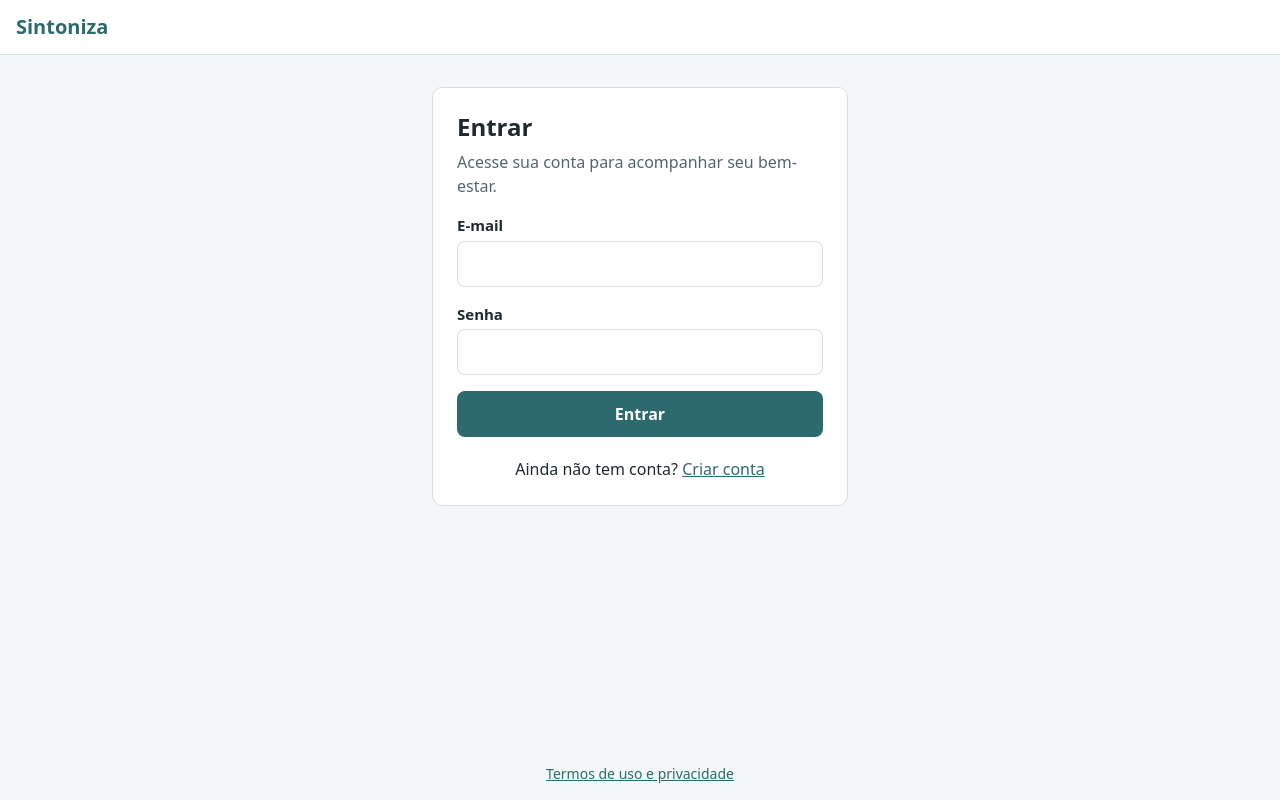
Scenario: authentication flow › tells the user to wait after too many failed attempts
In the field labelled "E-mail": (640, 264) 457,240 -> 823,286, type "ana@example.com"
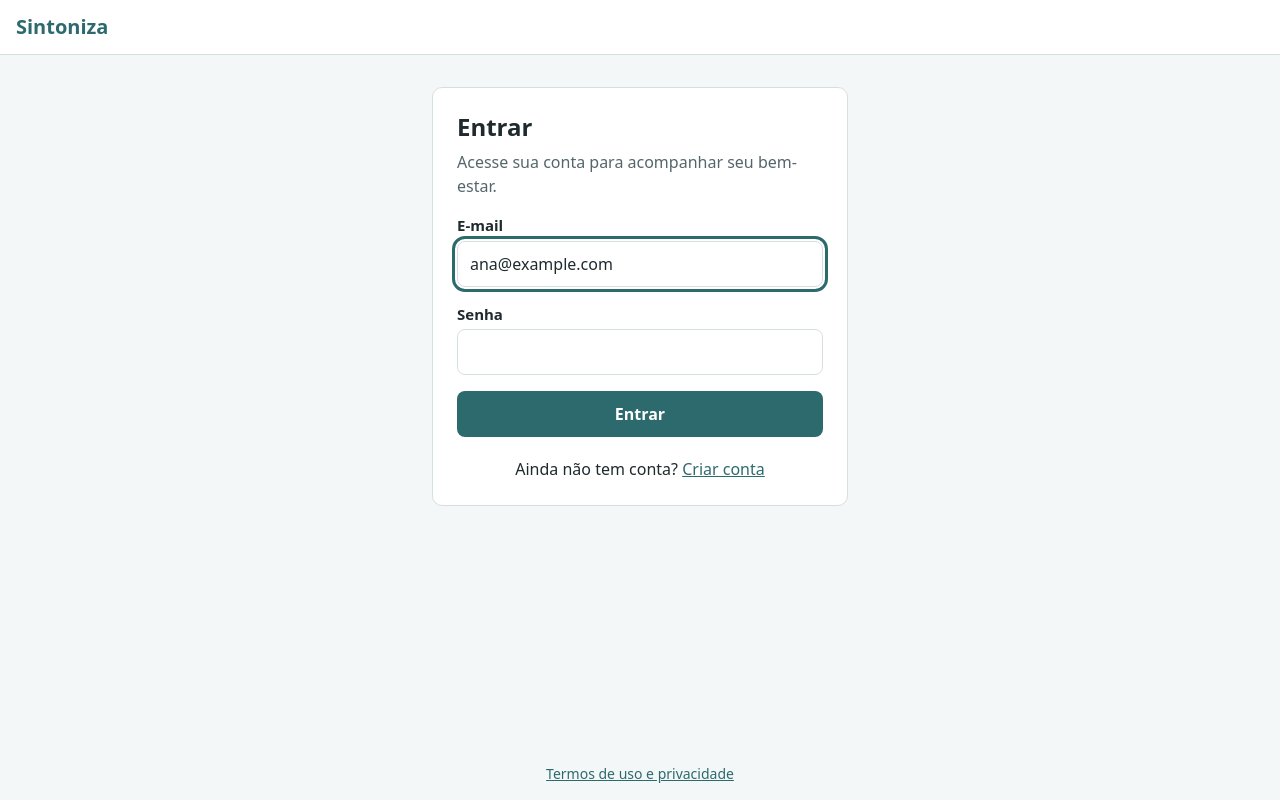
In the password field labelled "Senha": (640, 352) 457,329 -> 823,375, type "senha-errada"
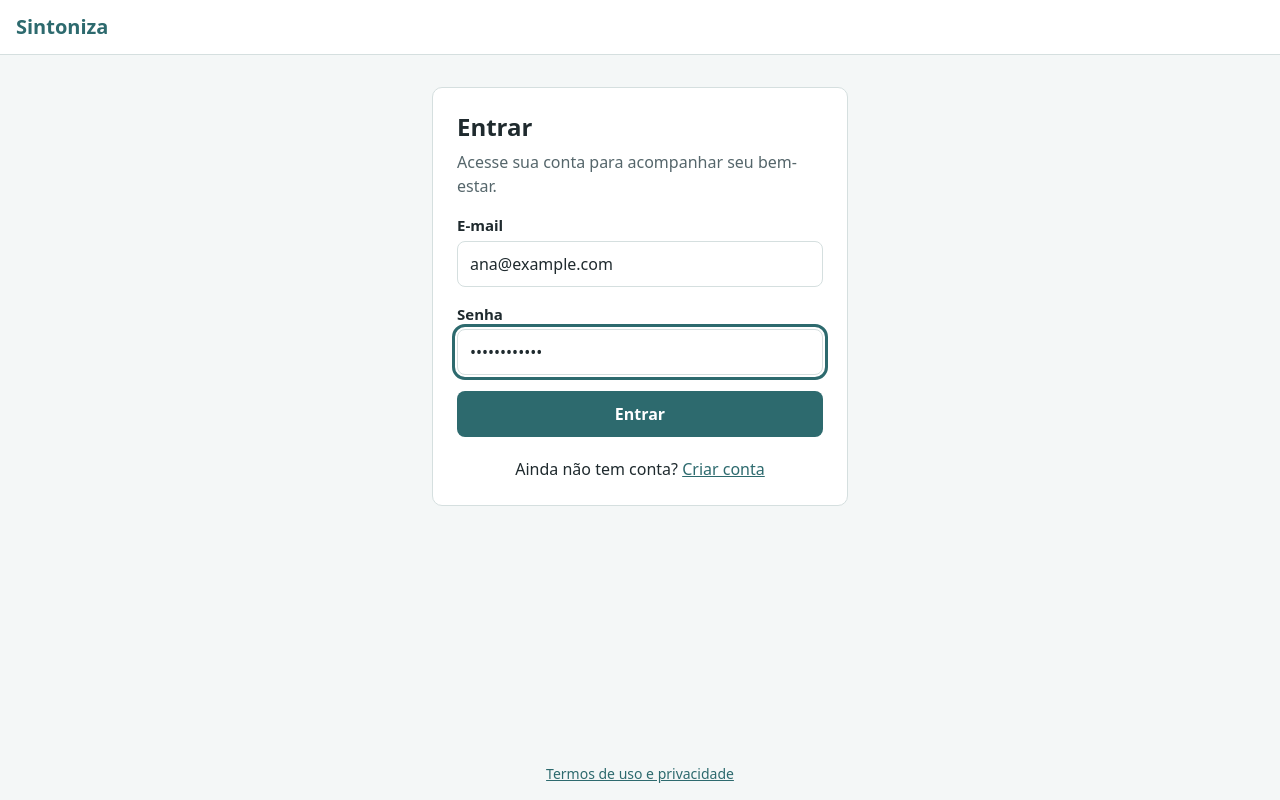
Click the button "Entrar": (640, 414) 457,391 -> 823,437
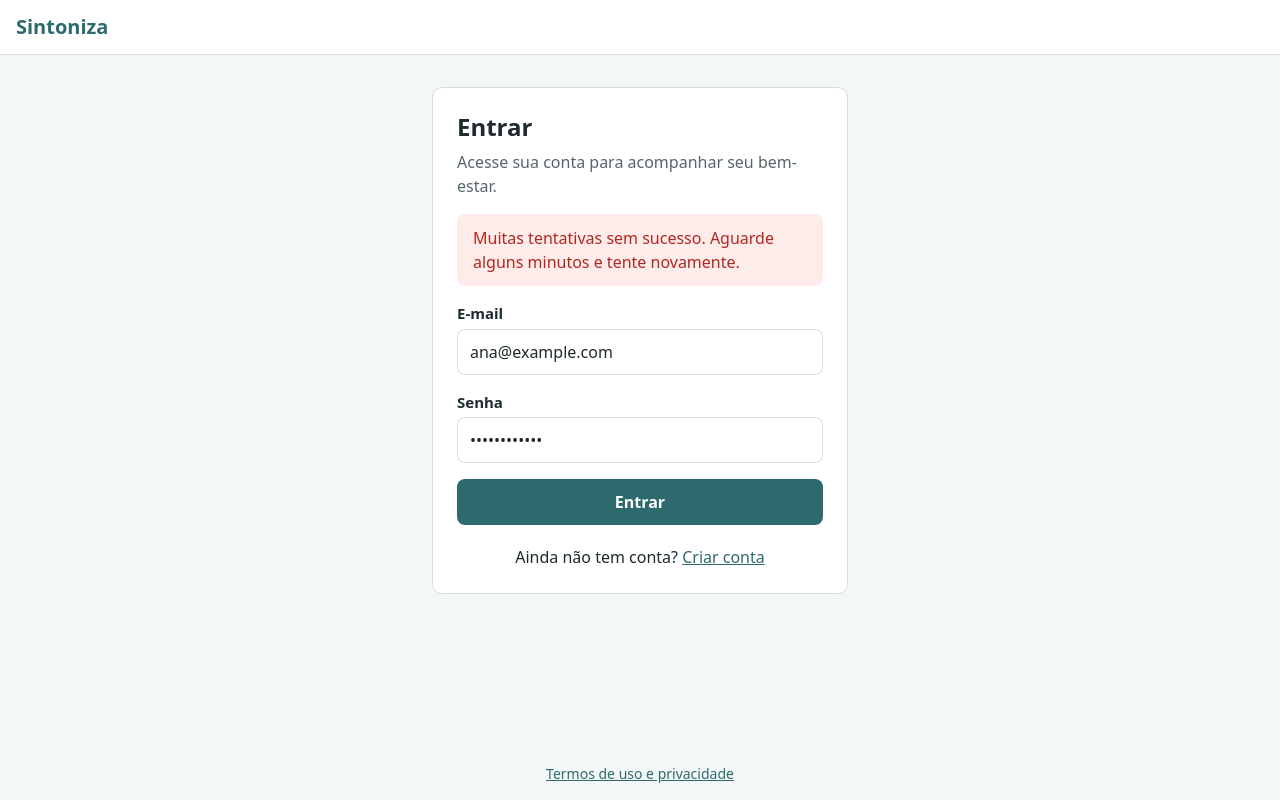
Result: the message shows "Muitas tentativas sem sucesso" at 473,227 -> 774,273
